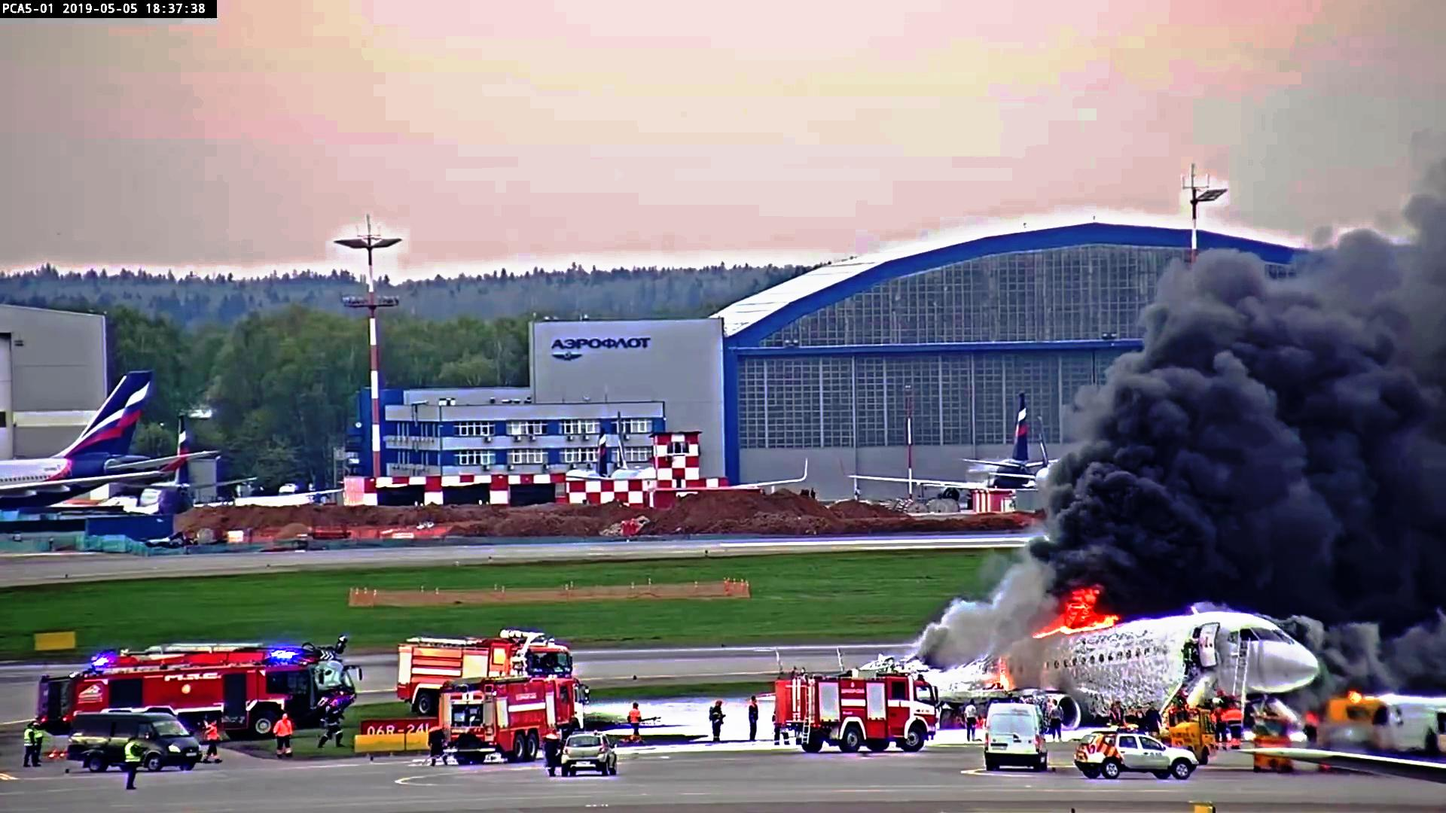fire: (1053, 582, 1111, 643)
smoke: (1164, 286, 1446, 625), (1051, 379, 1218, 593)
